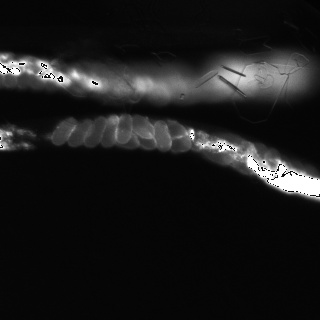embryo: (50, 118, 78, 145), (215, 134, 254, 153), (67, 119, 92, 146), (85, 117, 105, 147), (101, 115, 119, 147), (132, 115, 154, 139), (200, 150, 235, 165), (154, 121, 171, 150), (116, 128, 139, 149), (116, 115, 132, 144), (248, 143, 273, 160), (170, 133, 191, 152), (229, 160, 255, 175), (167, 120, 186, 140), (137, 128, 155, 149), (264, 148, 280, 169), (16, 72, 32, 89), (0, 73, 17, 88), (26, 75, 44, 89)
